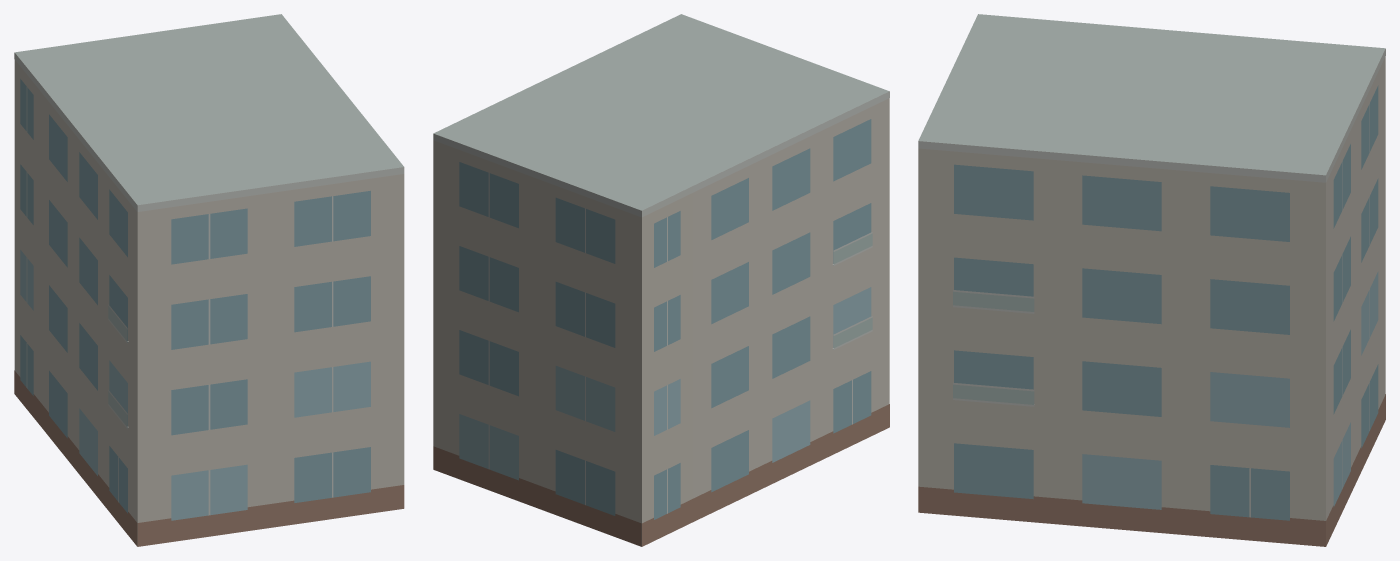
Rendered from residential-6f233c5b-4aeb-4f9d-b48b-a2f16cb7e00d.glb.
3 renders of one model, left to right at view 1: azimuth 30°, elevation 25°; view 2: azimuth 150°, elevation 25°; view 3: azimuth 270°, elevation 25°, orthographic. The views are drawn at different scales.
Visible parts, largest first — view 1: residential-6f233c5b-4aeb-4f9d-b48b-a2f16cb7e00d.tmp; view 2: residential-6f233c5b-4aeb-4f9d-b48b-a2f16cb7e00d.tmp; view 3: residential-6f233c5b-4aeb-4f9d-b48b-a2f16cb7e00d.tmp.
Boxes of the visible parts, box(x1,y1,x2,y2) form: residential-6f233c5b-4aeb-4f9d-b48b-a2f16cb7e00d.tmp: box(14, 14, 404, 546); residential-6f233c5b-4aeb-4f9d-b48b-a2f16cb7e00d.tmp: box(433, 14, 889, 546); residential-6f233c5b-4aeb-4f9d-b48b-a2f16cb7e00d.tmp: box(918, 14, 1385, 546).
Size of the model in its own units: 11.37 by 12.2 by 13.93.
